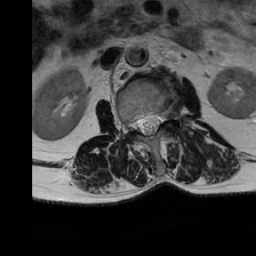CCS_normal: (144, 108, 152, 144)
LFS_normal: (160, 100, 168, 127)
LLS_normal: (152, 104, 161, 138)
RFS_normal: (128, 111, 136, 138)
RLS_normal: (136, 110, 144, 140)
